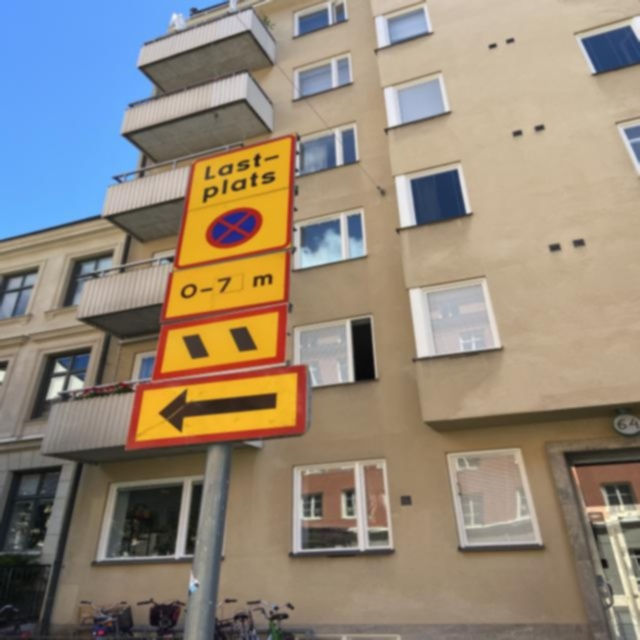lastplats: (172, 136, 296, 268)
